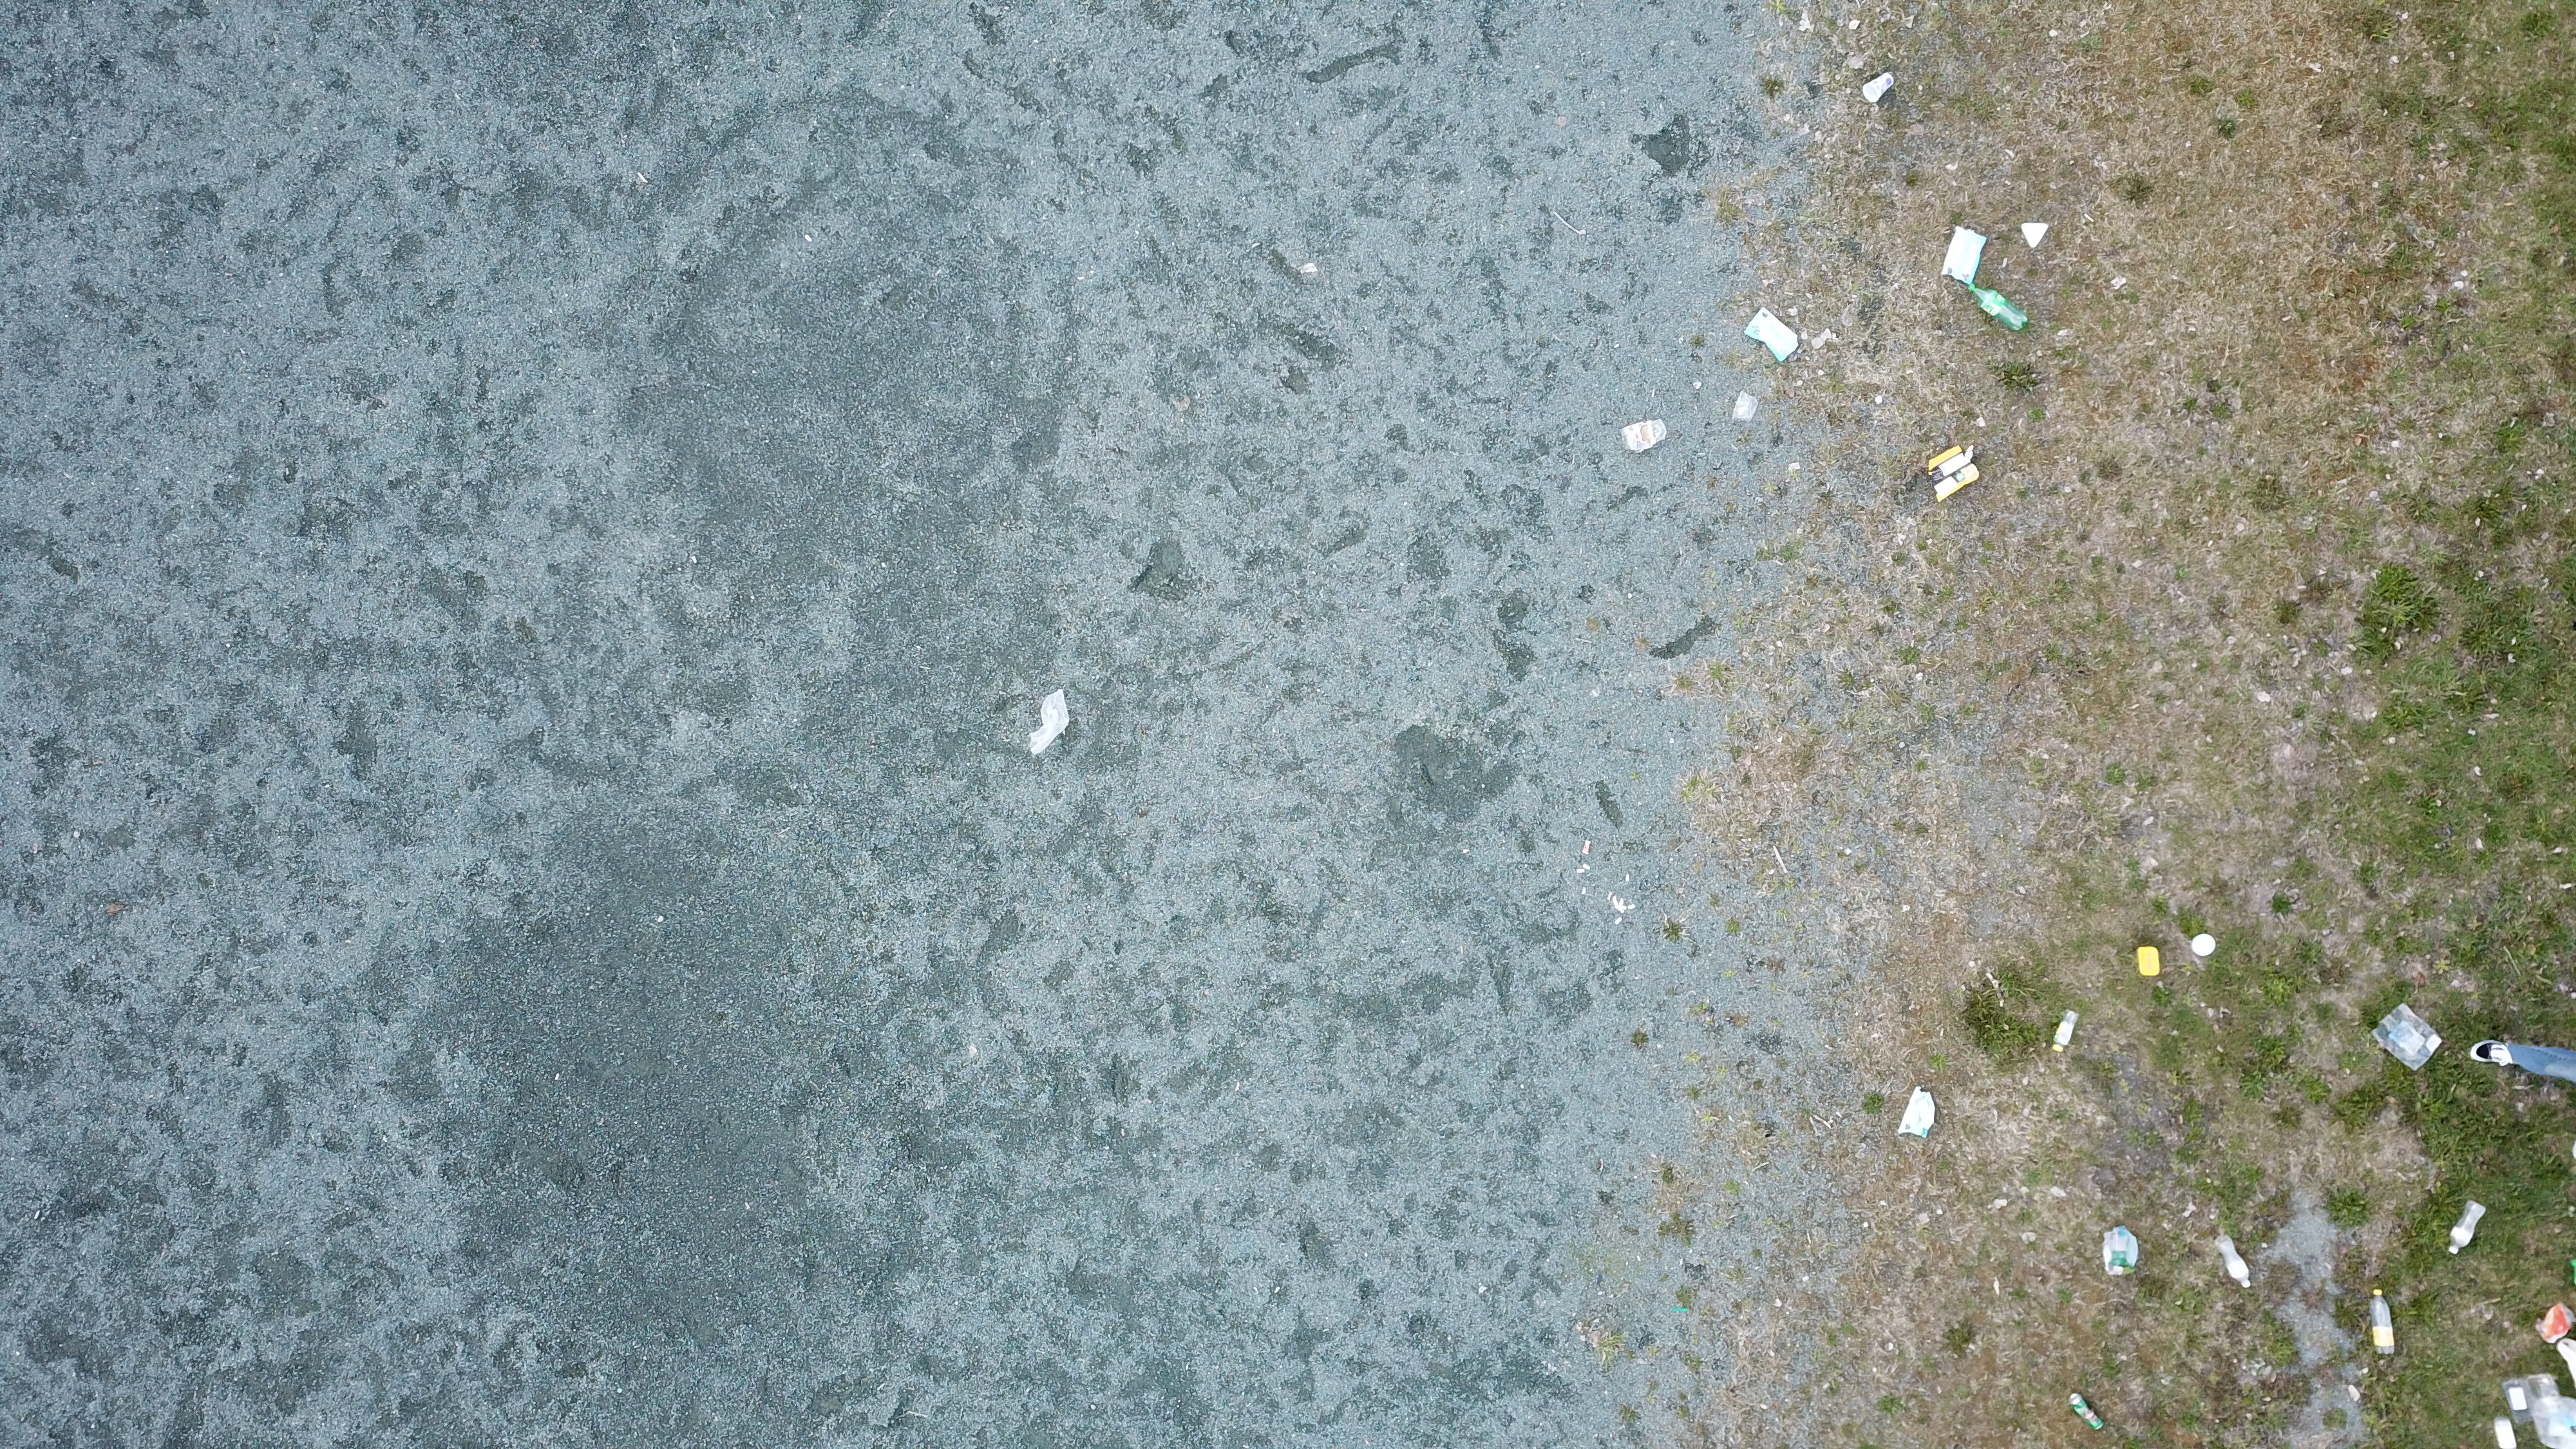Can: (2065, 1392, 2107, 1433)
Plastic: (2371, 1007, 2443, 1072), (1923, 444, 1983, 504), (2500, 1373, 2567, 1424), (1743, 306, 1799, 364), (1937, 225, 1985, 285), (2528, 1389, 2576, 1447), (1028, 688, 1070, 754), (2098, 1226, 2143, 1279), (1895, 1088, 1936, 1141), (2535, 1300, 2576, 1343), (1624, 419, 1667, 458), (1859, 71, 1898, 104), (2553, 1338, 2576, 1387), (1729, 391, 1762, 423), (2491, 1419, 2523, 1449), (2134, 945, 2162, 978), (2020, 223, 2052, 249), (2189, 932, 2220, 957), (1582, 839, 1596, 858)
PlasticBottle: (1966, 285, 2029, 334), (2212, 1233, 2256, 1292), (2445, 1198, 2488, 1254), (2367, 1290, 2399, 1355), (2051, 1008, 2079, 1056)
